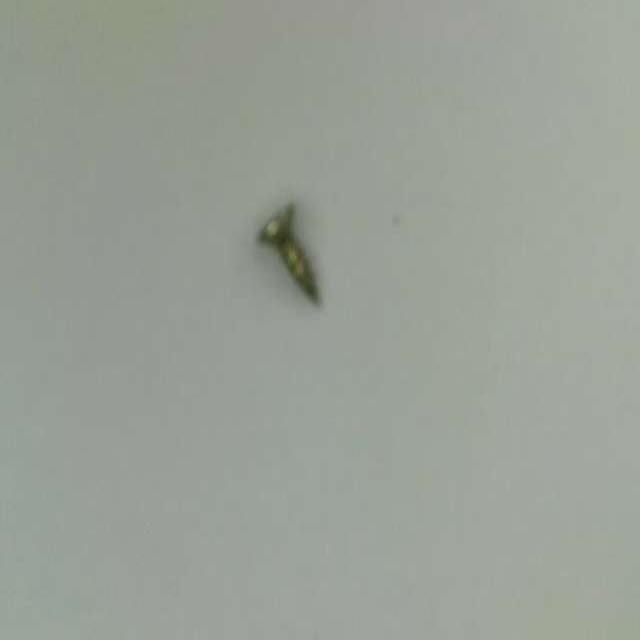Parafuso: (261, 207, 317, 300)
